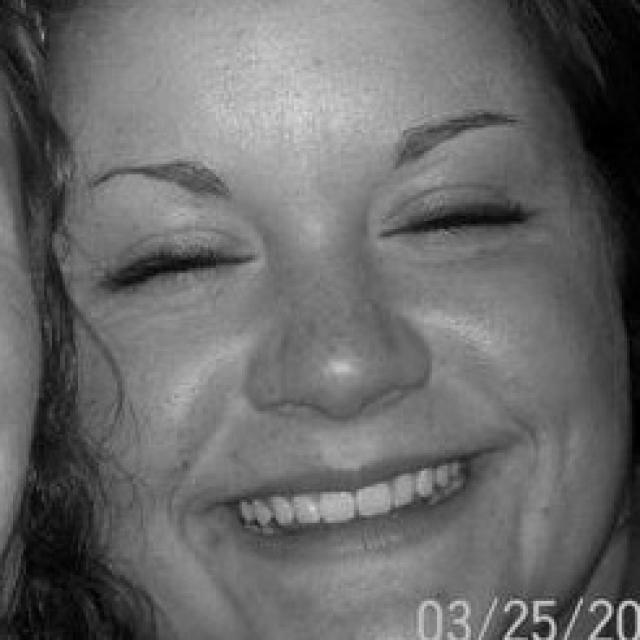real: (46, 0, 634, 640), (80, 183, 552, 304)
